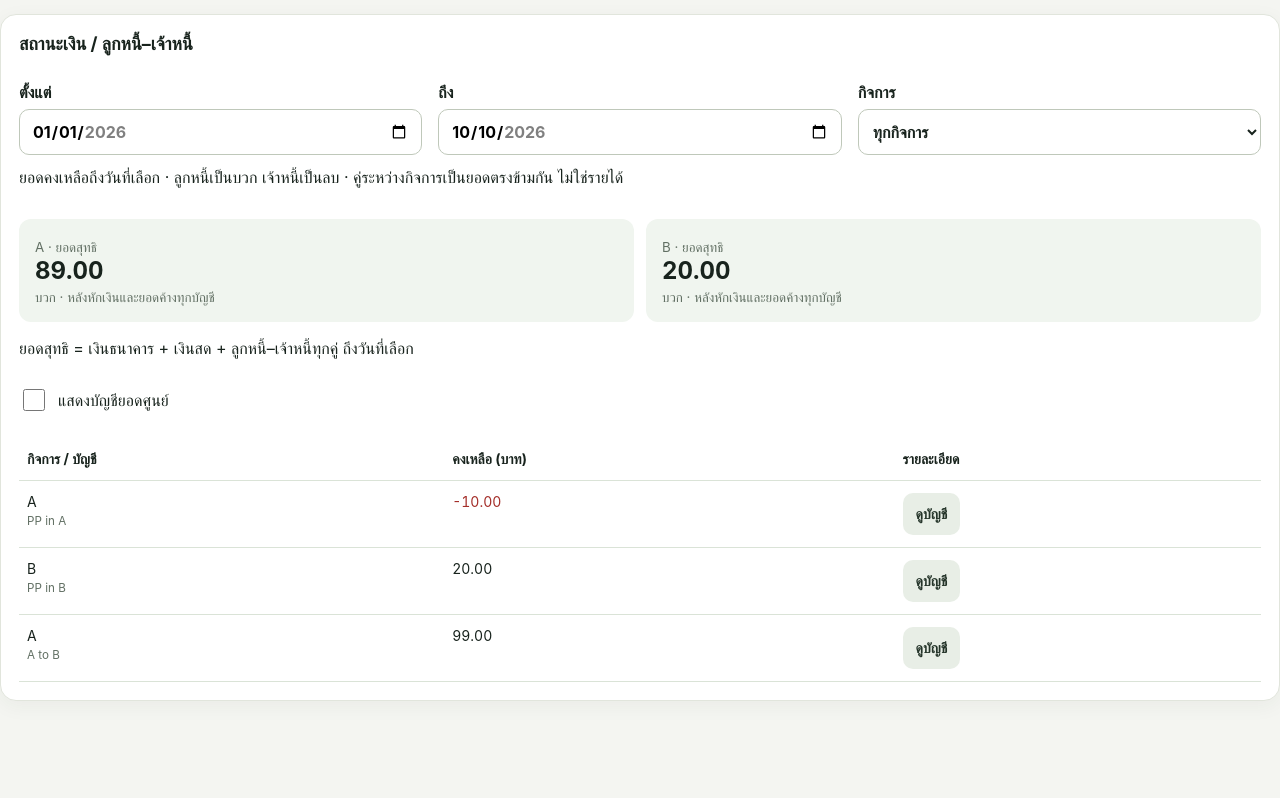
Test: shows PP receivables/payables from the opposite side and keeps ledger direction consistent
The image size is (1280, 798).
Expected: the checkbox labelled "แสดงบัญชียอดศูนย์" is shown, x1=23 y1=389 x2=45 y2=411
Select "PP" in the dropdown labelled "กิจการ". click: [1059, 132]
box: x1=858 y1=109 x2=1261 y2=155
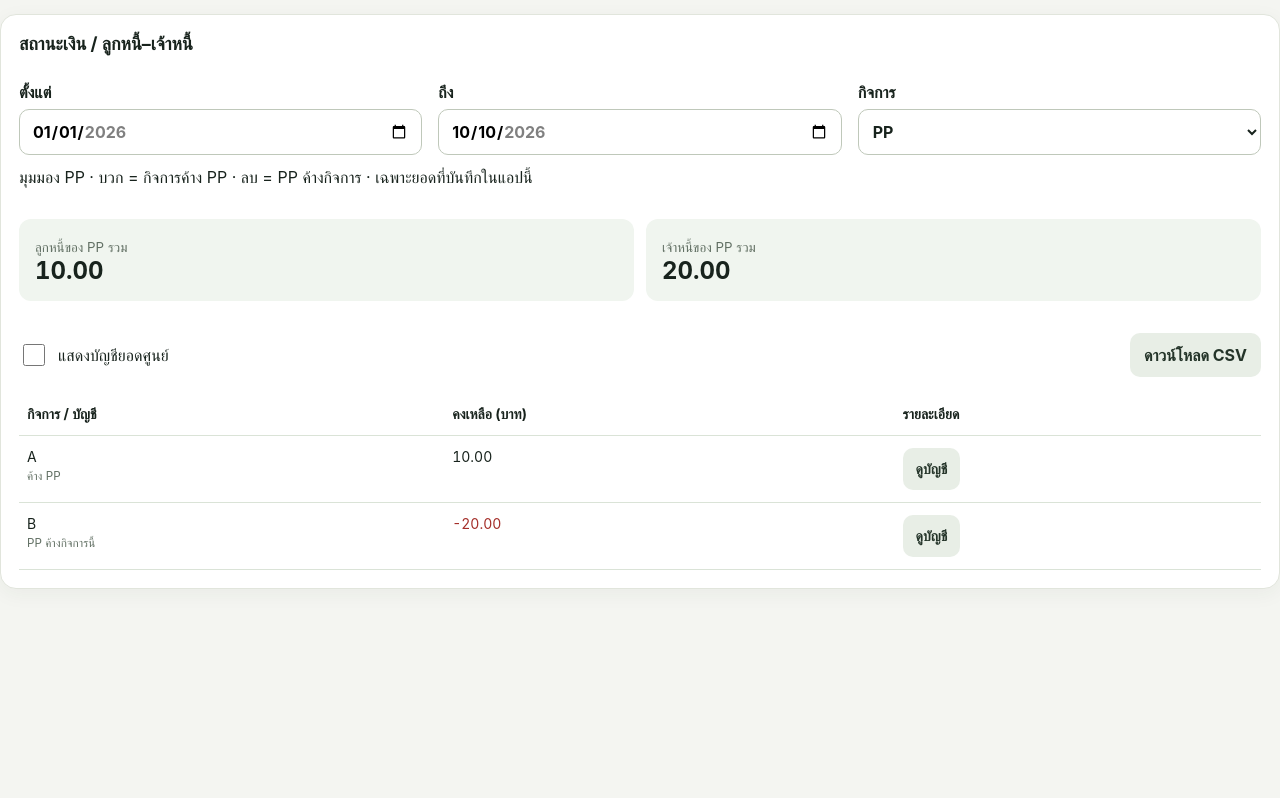
Now the text "A to B" is gone
Now the text "ค้าง PP" is shown, box x1=27 y1=469 x2=61 y2=483
Now the text "PP ค้างกิจการนี้" is shown, box x1=27 y1=536 x2=95 y2=550
Click the 1st button "ดูบัญชี". click: [931, 469]
box: x1=902 y1=448 x2=960 y2=490
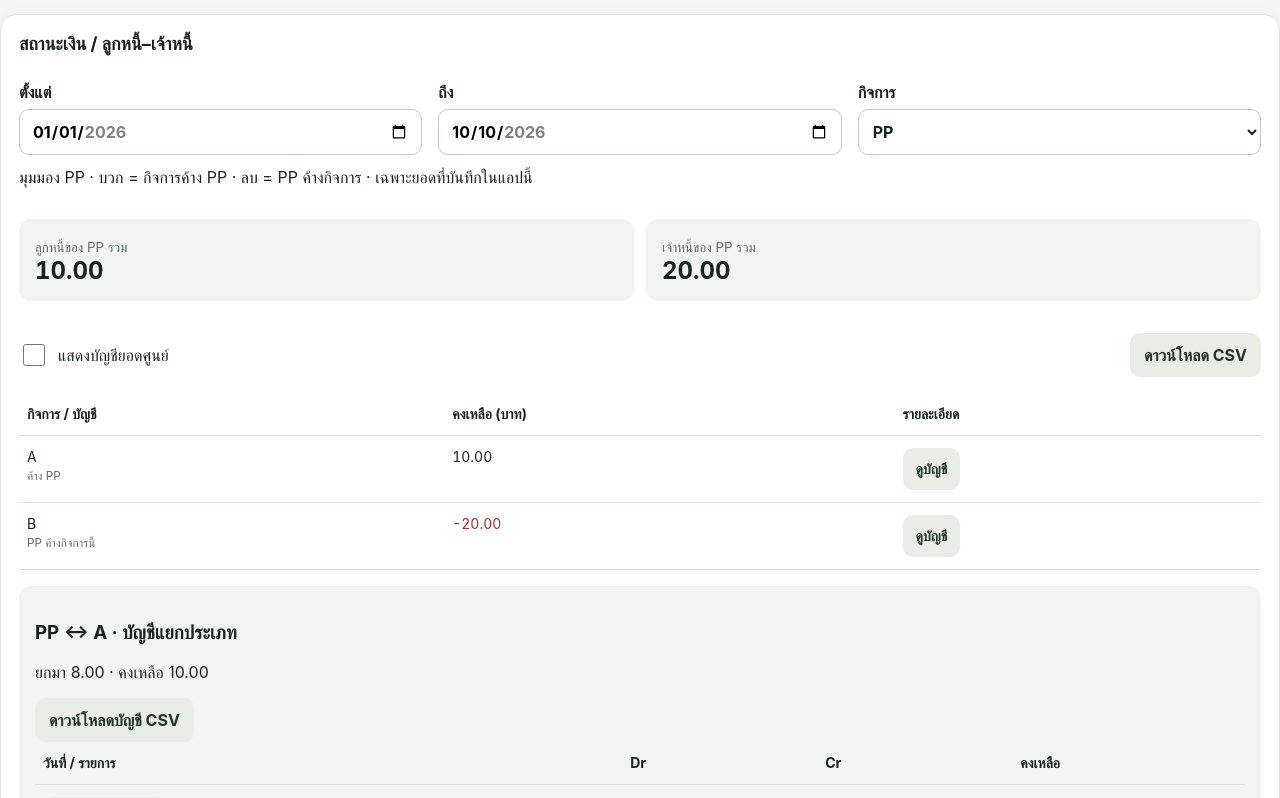
Now the text "ยกมา 8.00 · คงเหลือ 10.00" is shown, box x1=35 y1=662 x2=209 y2=682
Now the heading "PP ↔ A · บัญชีแยกประเภท" is shown, box x1=35 y1=621 x2=237 y2=644
Select "A" in the dropdown labelled "กิจการ". click: [1059, 132]
box: x1=858 y1=109 x2=1261 y2=155
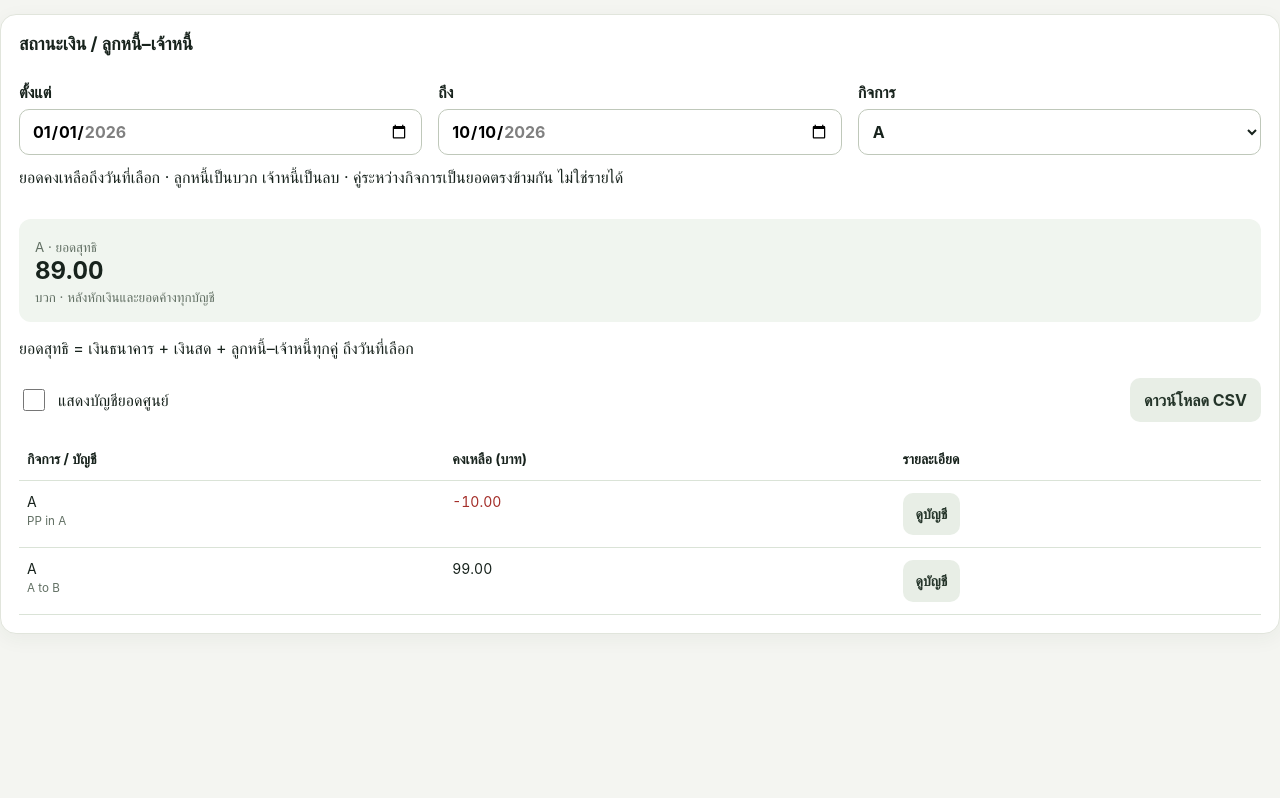
Now the text "-10.00" is shown, box x1=444 y1=480 x2=894 y2=547
Now the text "ลูกหนี้ของ PP รวม" is gone
